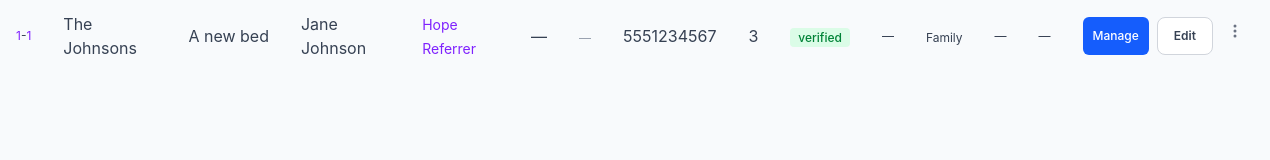
Test: FamilyTableRow › family-locked row: Fully approve shown, Reset lock hidden, no packing slip by default
The width and height of the screenshot is (1270, 160).
Click the button named "More actions". click: (1235, 31)
box: [1221, 17, 1249, 45]
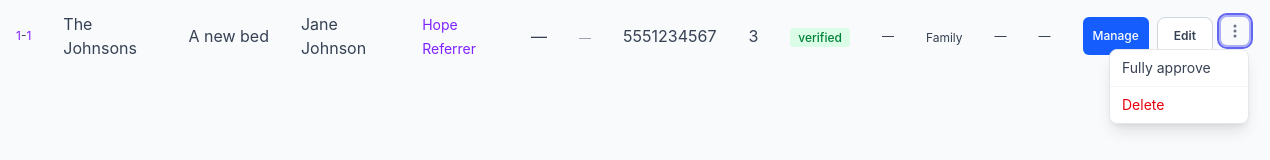
Now the menu item "Fully approve" is shown, box [1110, 50, 1248, 86]
